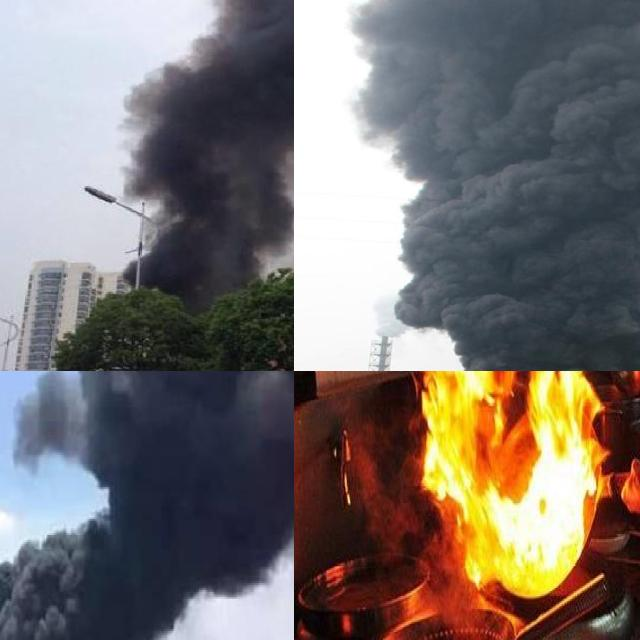fire: (418, 371, 605, 591)
smoke: (345, 0, 640, 371), (0, 371, 294, 640), (77, 0, 294, 295)
